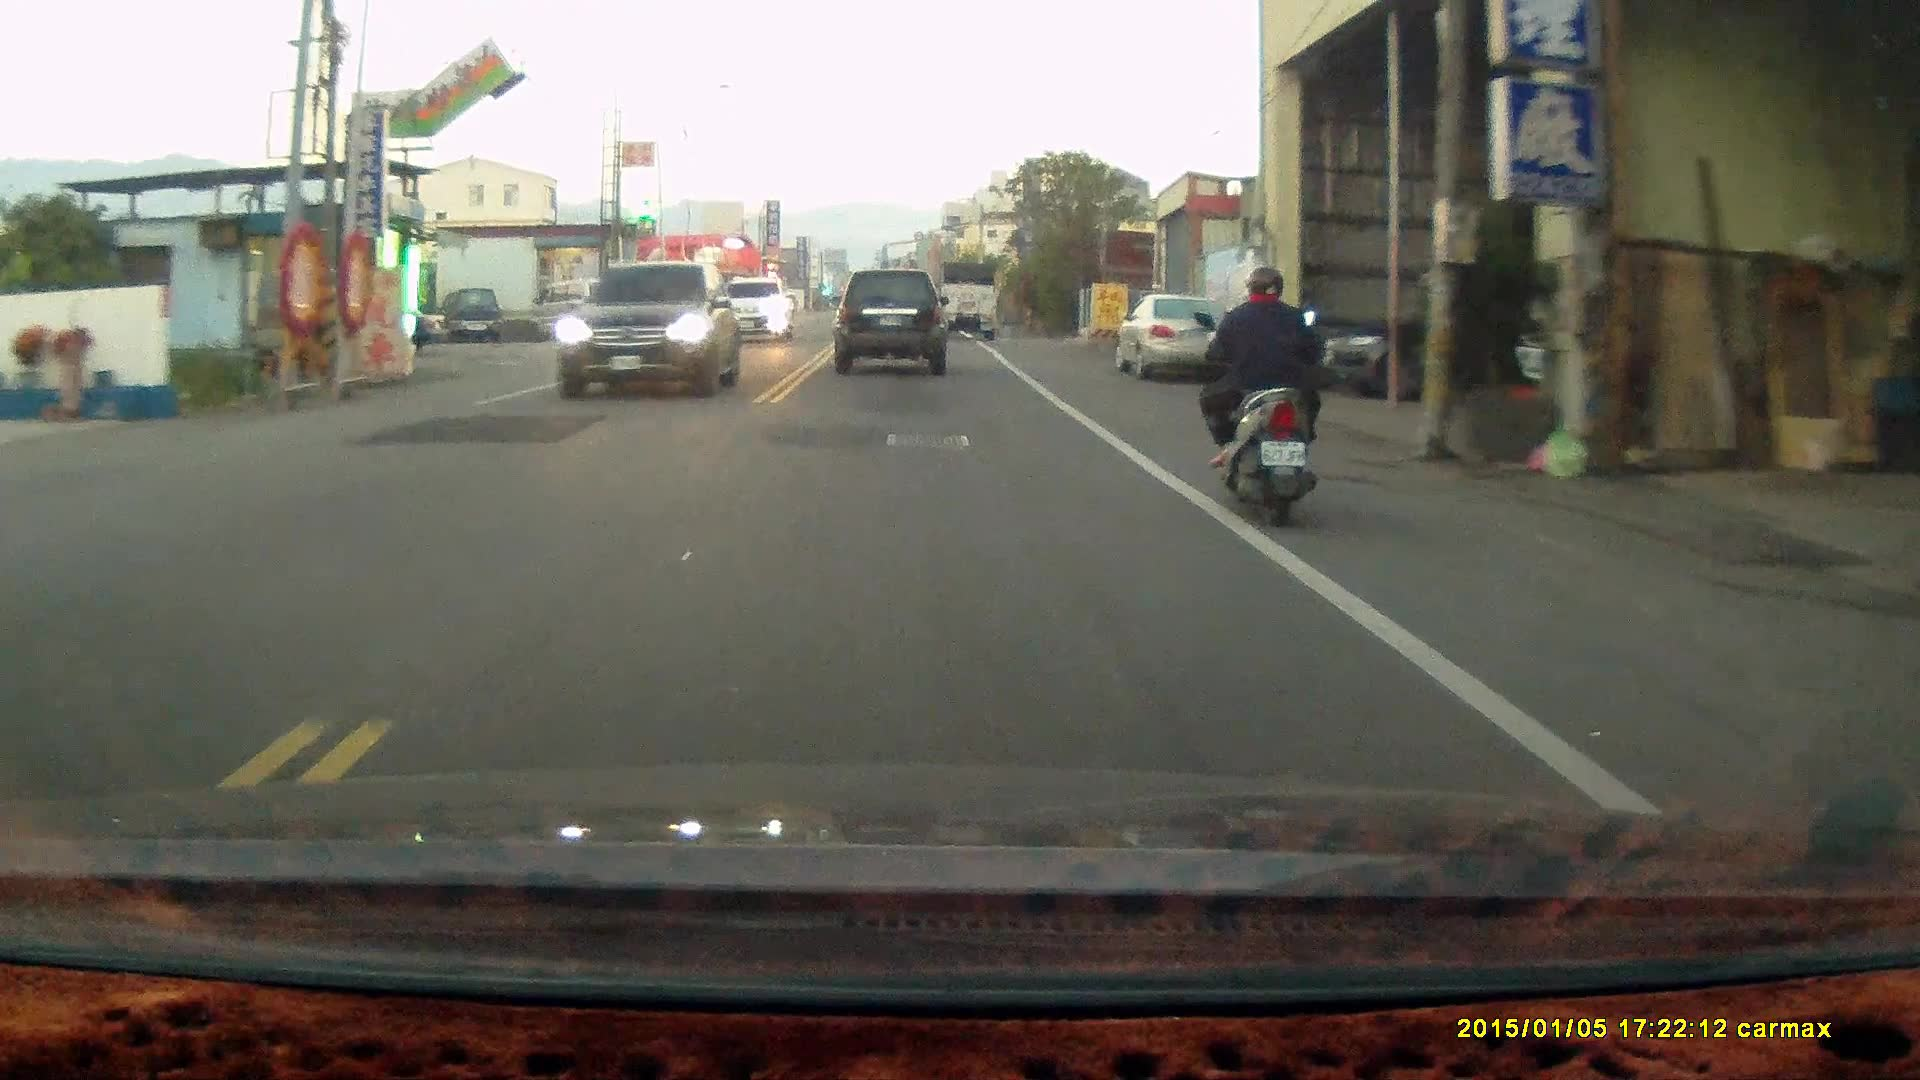rider: (1192, 263, 1324, 529)
vehicle: (550, 263, 747, 399), (1315, 297, 1512, 404), (834, 269, 951, 377), (1118, 291, 1235, 381), (538, 278, 630, 348), (718, 277, 797, 348), (930, 264, 1000, 343), (446, 287, 501, 344)
